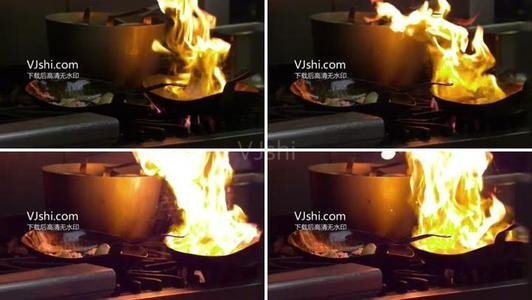fire: (127, 147, 254, 256), (368, 0, 502, 96), (405, 147, 508, 249), (149, 0, 232, 96)
